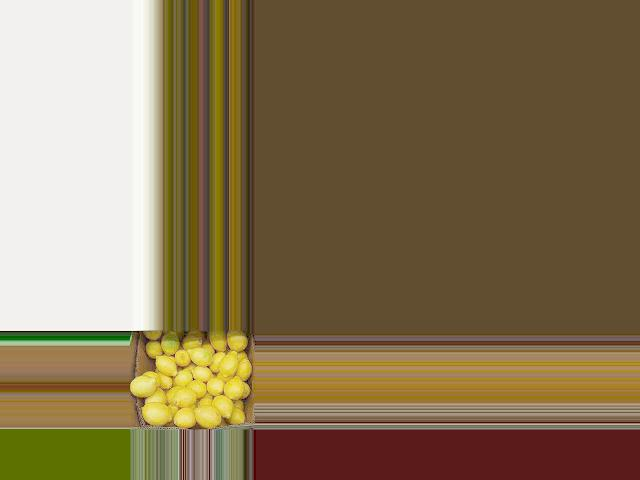lemon: (176, 368, 192, 386)
